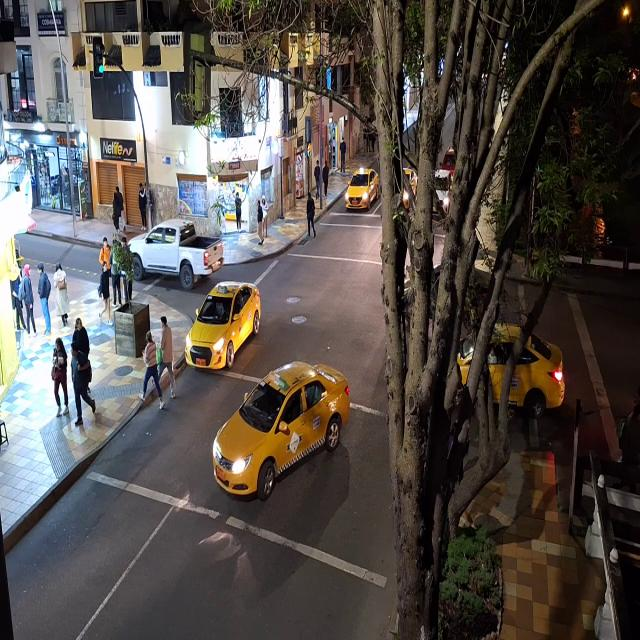CMT: (128, 219, 224, 282)
SED: (216, 363, 330, 492), (186, 284, 252, 365), (346, 170, 374, 208)
